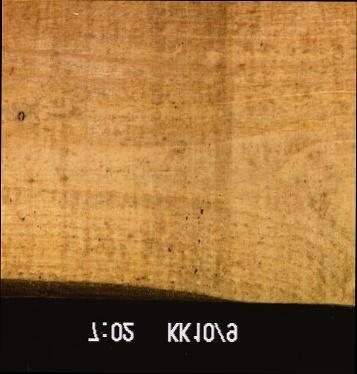dry_knot: (16, 109, 25, 123)
wave: (0, 278, 235, 300)
